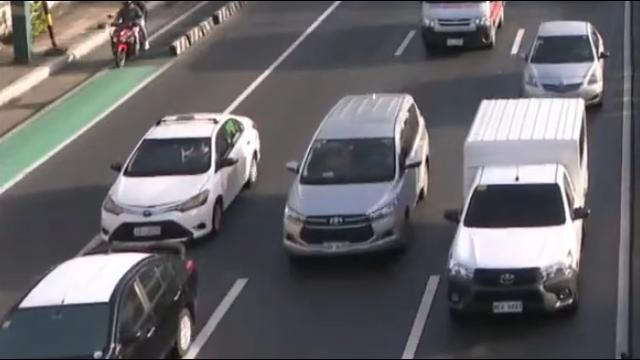car: (282, 92, 430, 264), (105, 110, 261, 253), (0, 252, 202, 360), (520, 18, 609, 102), (420, 1, 503, 51)
motorcycle: (108, 0, 148, 71)
truck: (461, 96, 586, 324)
